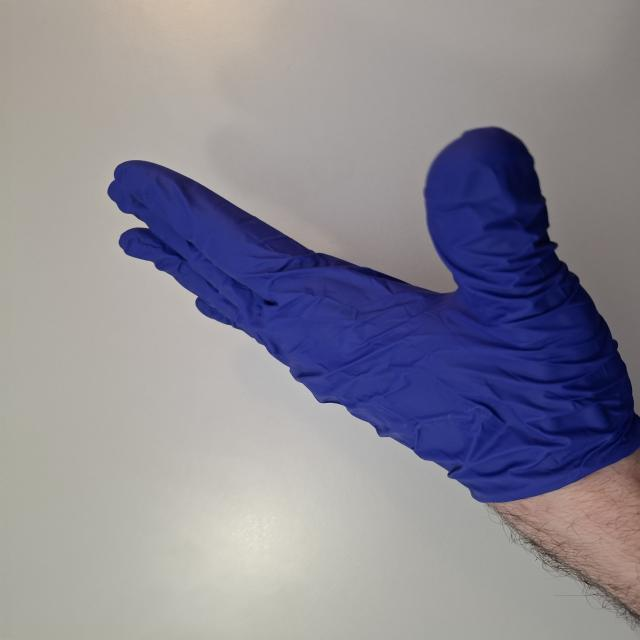glove_on: (104, 125, 636, 500)
